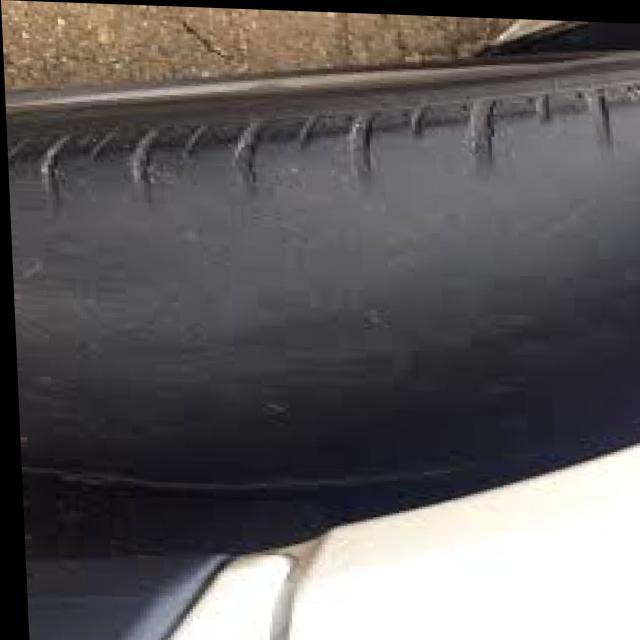Flat spots: (25, 159, 638, 437)
